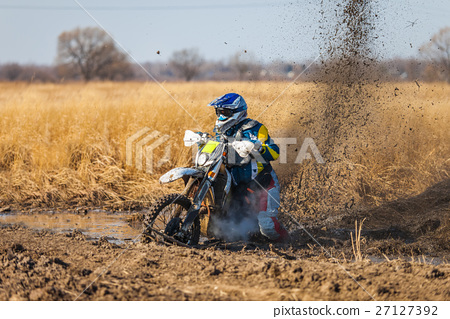helmet: (210, 89, 246, 127)
